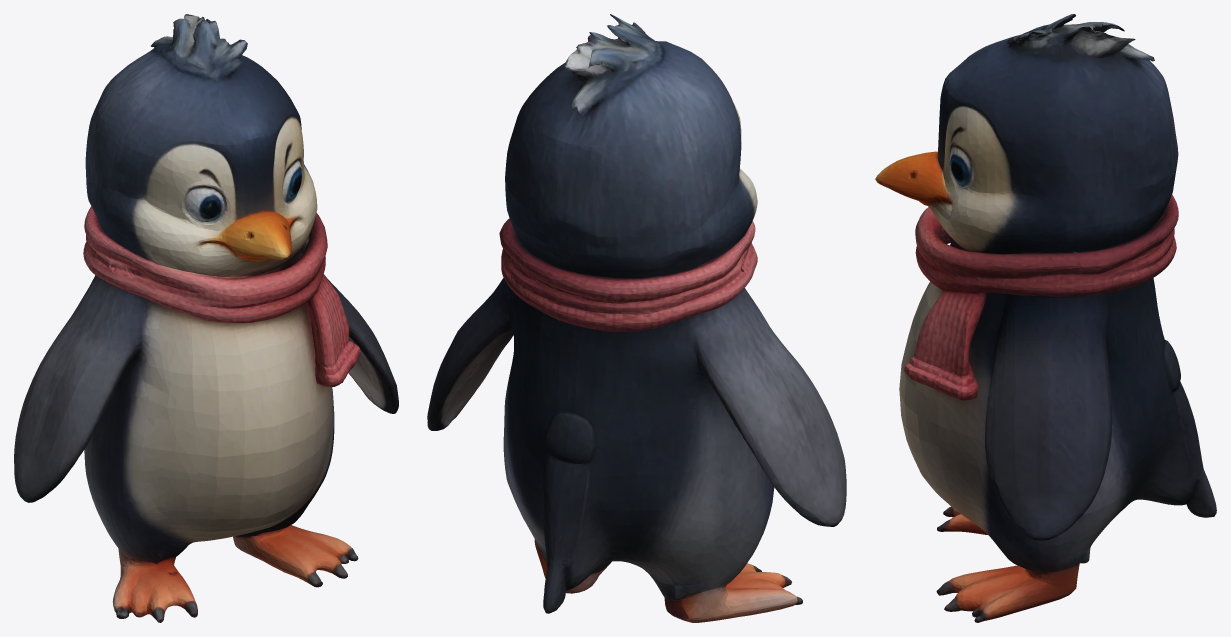
The model's file is penguin-hero-v1-web.glb.
3 views of the same model, side by side, from view 1: azimuth 30°, elevation 25°; view 2: azimuth 150°, elevation 25°; view 3: azimuth 270°, elevation 25° (orthographic). The views are drawn at different scales.
Parts seen in each view (by area): view 1: geometry_0; view 2: geometry_0; view 3: geometry_0.
Part boxes in pixels (x1,y1,x2,y2): geometry_0: (14,14,398,622); geometry_0: (427,14,846,622); geometry_0: (875,14,1216,622).
Size of the model in its own units: 0.724 by 0.9976 by 0.5545.
Materials: 1 (1 with a texture image).
